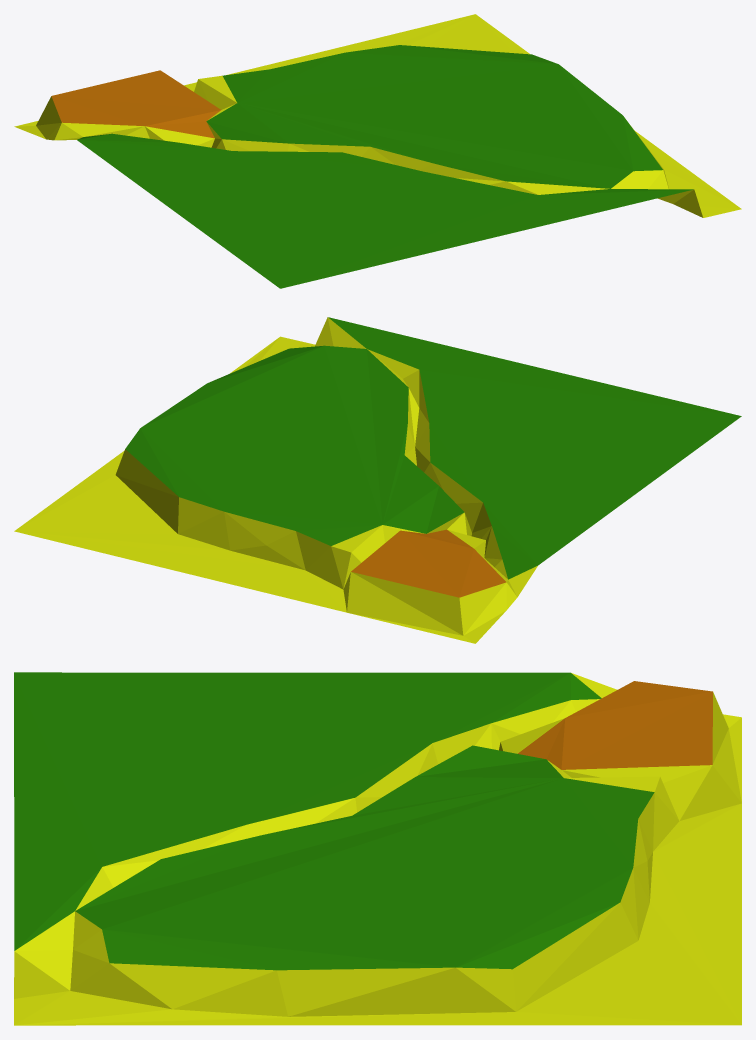
3 views of the same model, one above another, from view 1: azimuth 30°, elevation 25°; view 2: azimuth 150°, elevation 25°; view 3: azimuth 270°, elevation 25° (orthographic). The views are drawn at different scales.
Visible parts, largest first — view 1: TerrainVeryHigh.003; view 2: TerrainVeryHigh.003; view 3: TerrainVeryHigh.003.
Boxes of the visible parts, x1=… form: TerrainVeryHigh.003: x1=14, y1=14, x2=741, y2=288; TerrainVeryHigh.003: x1=14, y1=317, x2=741, y2=643; TerrainVeryHigh.003: x1=14, y1=672, x2=741, y2=1025.
Bounding box in the file's own units: 1255 × 1252 × 85.93.
